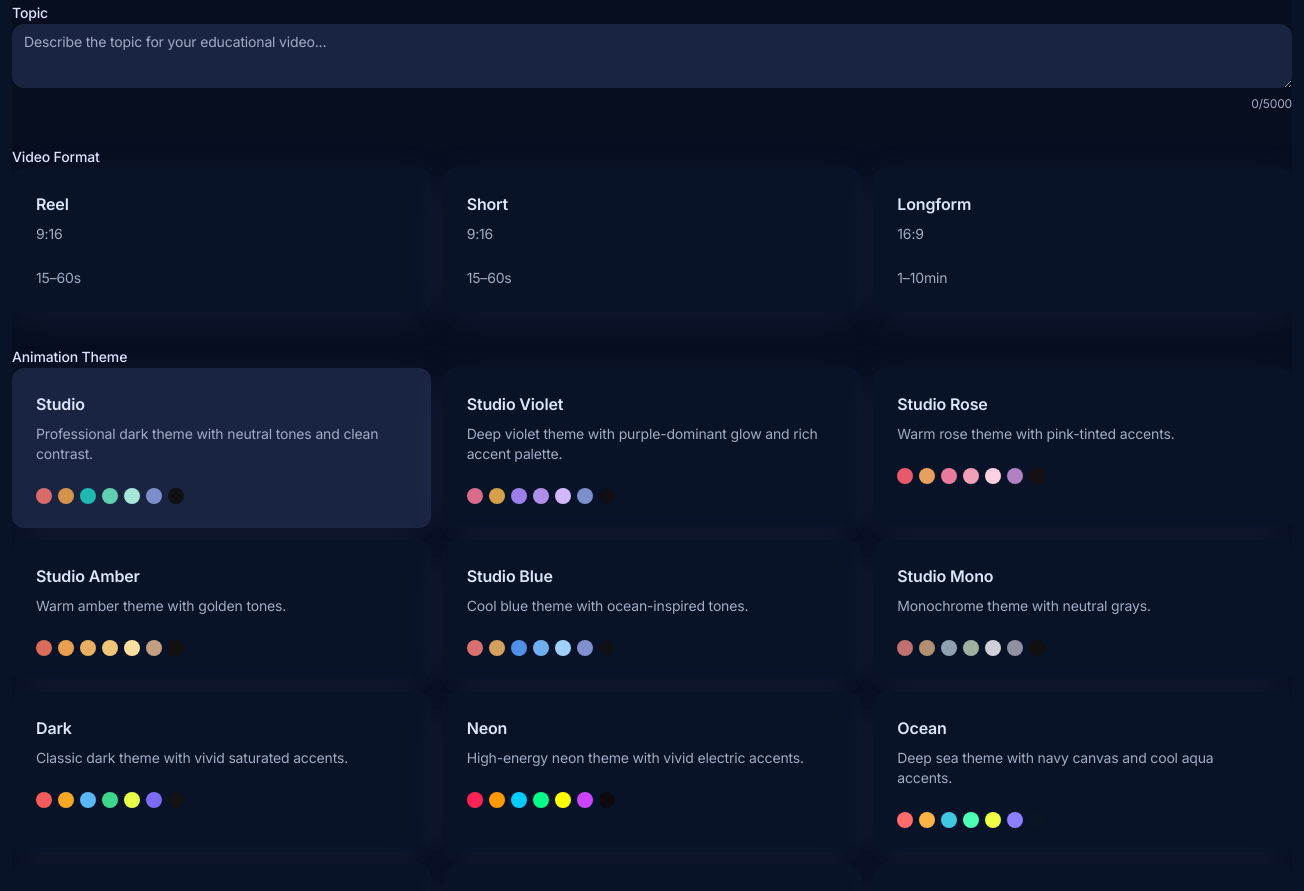
Test: PipelineWizard › shows character count
Type "Hello world" into the text box labelled "Topic" at (652, 56), box [12,24,1292,88]
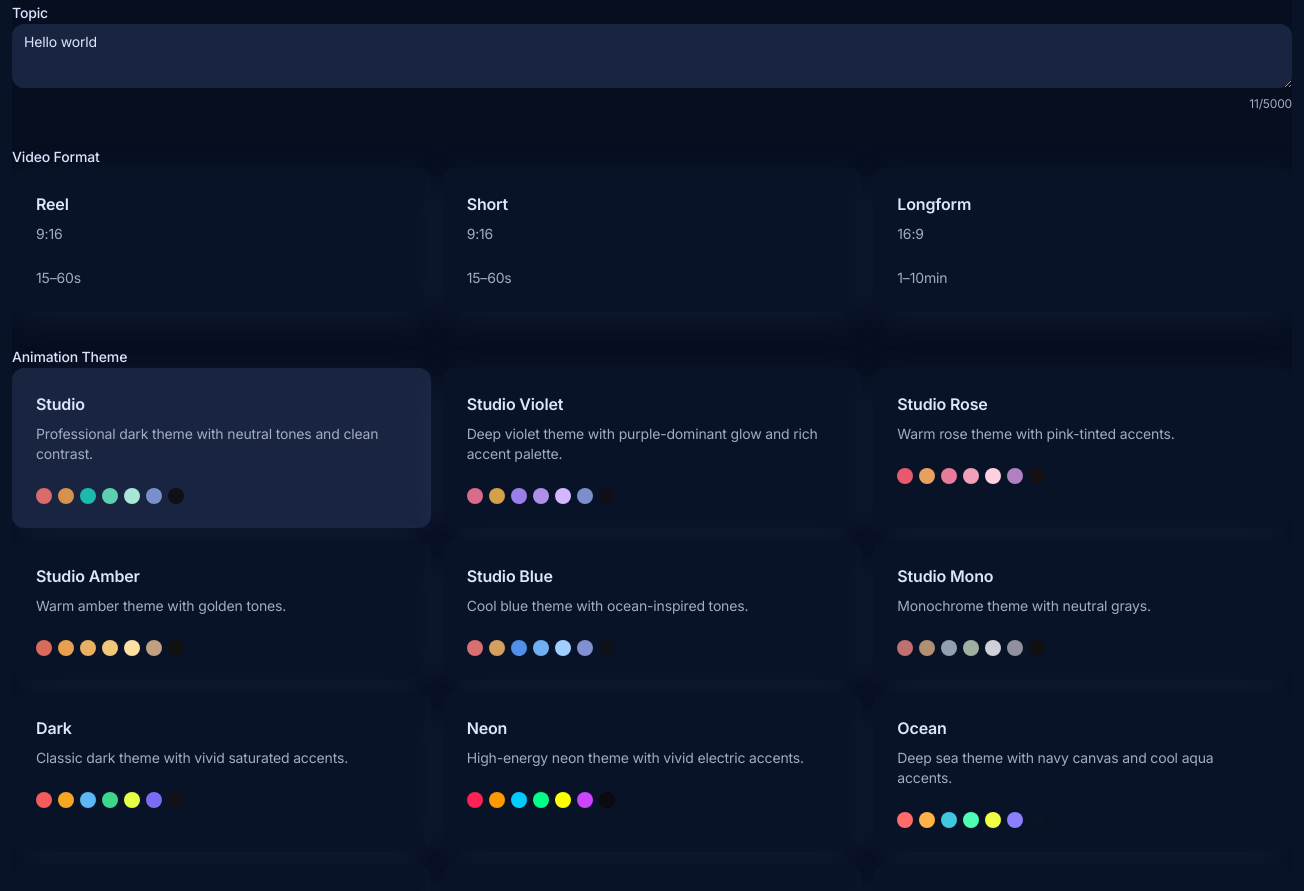
Result: the text "11/5000" is shown at [1249,96,1292,112]
